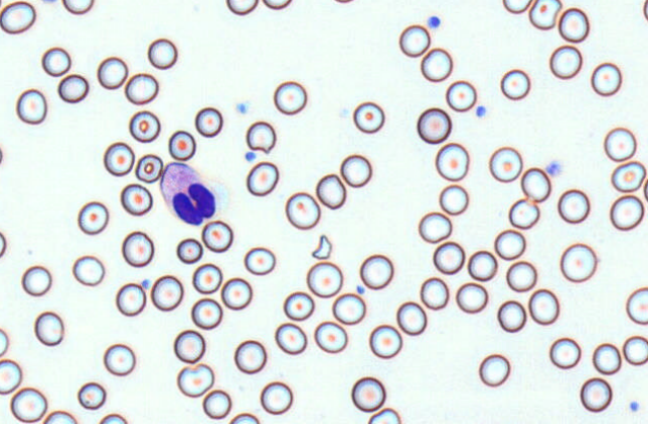GRAN: (160, 161, 231, 228)
PLT: (545, 161, 563, 178), (234, 100, 251, 116), (427, 15, 443, 29), (243, 150, 258, 162), (140, 277, 152, 291), (475, 106, 486, 119), (630, 399, 641, 412)
RBC: (559, 242, 597, 282), (306, 260, 343, 297), (10, 386, 47, 422), (176, 362, 214, 397), (285, 191, 320, 229), (435, 142, 469, 181), (609, 194, 644, 230), (416, 107, 451, 143), (351, 376, 385, 412), (359, 253, 393, 289), (488, 146, 522, 182), (150, 274, 183, 311), (0, 0, 35, 34), (273, 80, 307, 115), (121, 230, 153, 267), (579, 377, 612, 412), (246, 161, 279, 196), (549, 44, 582, 79), (557, 188, 590, 223), (603, 127, 636, 162), (15, 88, 47, 124), (528, 288, 559, 325), (369, 324, 402, 358), (339, 153, 372, 187), (234, 339, 266, 374), (611, 160, 646, 192), (420, 47, 452, 82), (315, 173, 346, 209), (558, 7, 589, 43), (332, 292, 365, 325), (260, 381, 293, 414), (478, 353, 510, 387), (173, 329, 205, 363), (124, 72, 158, 104), (590, 62, 622, 96), (103, 141, 134, 176), (520, 167, 551, 202), (314, 321, 347, 353), (120, 183, 152, 216), (274, 322, 307, 354), (418, 211, 451, 243), (220, 277, 252, 310), (103, 343, 135, 376), (77, 201, 109, 234), (96, 56, 128, 89), (398, 24, 430, 57), (115, 282, 146, 316), (34, 311, 64, 346), (190, 297, 222, 329), (201, 220, 233, 252), (549, 337, 581, 369), (352, 101, 384, 133), (433, 241, 464, 274), (455, 282, 488, 313), (245, 120, 276, 153), (396, 301, 426, 335), (72, 255, 104, 286), (506, 260, 537, 292), (494, 228, 525, 260), (129, 110, 160, 142), (528, 0, 561, 30), (21, 265, 52, 296), (508, 198, 539, 229), (445, 80, 476, 111), (192, 262, 222, 294), (57, 73, 89, 103), (147, 37, 177, 69), (500, 68, 530, 100), (420, 277, 449, 310), (497, 299, 526, 332), (467, 250, 497, 281), (243, 246, 275, 275), (592, 342, 621, 374), (41, 46, 71, 76), (283, 291, 314, 320), (439, 184, 468, 215), (194, 106, 223, 137), (202, 389, 231, 419), (168, 130, 196, 161), (135, 153, 163, 183), (77, 381, 106, 409), (626, 286, 647, 324), (0, 358, 22, 394), (622, 335, 647, 365), (176, 237, 203, 264), (367, 407, 401, 423), (225, 0, 258, 15), (62, 0, 94, 14), (42, 410, 76, 423), (502, 0, 531, 13), (228, 412, 259, 423), (98, 413, 127, 423), (262, 0, 292, 9), (0, 328, 8, 356), (0, 231, 6, 257), (643, 175, 648, 202), (643, 0, 648, 21), (332, 0, 355, 4), (0, 145, 3, 166)
Schistocyte: (311, 234, 333, 259)
